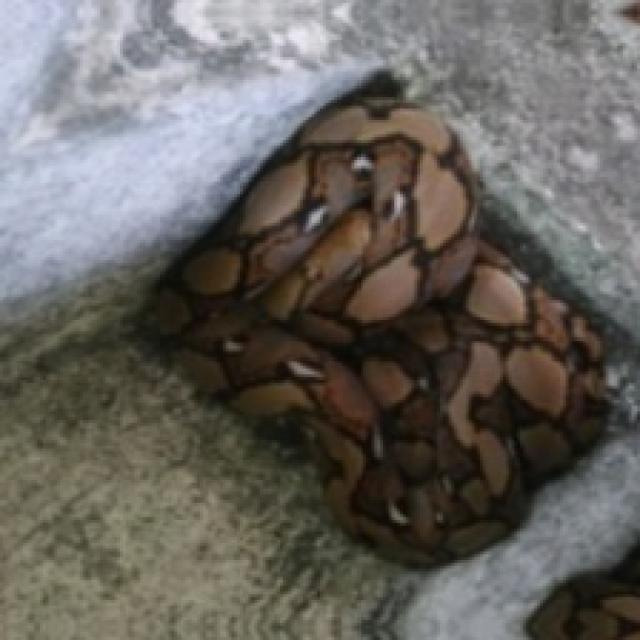reticulated python: (151, 74, 606, 563)
